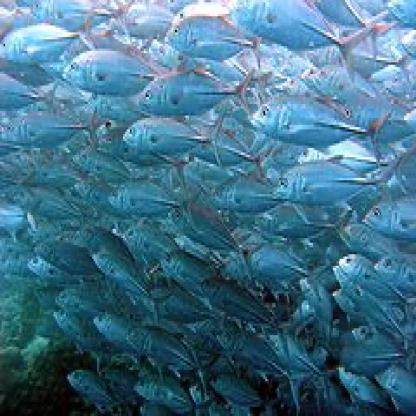jack: (245, 87, 386, 161), (214, 316, 311, 406), (58, 40, 169, 103), (278, 149, 393, 209), (86, 244, 167, 325), (159, 8, 264, 68), (103, 175, 202, 228), (123, 112, 227, 151), (62, 357, 122, 412), (34, 232, 105, 278)
